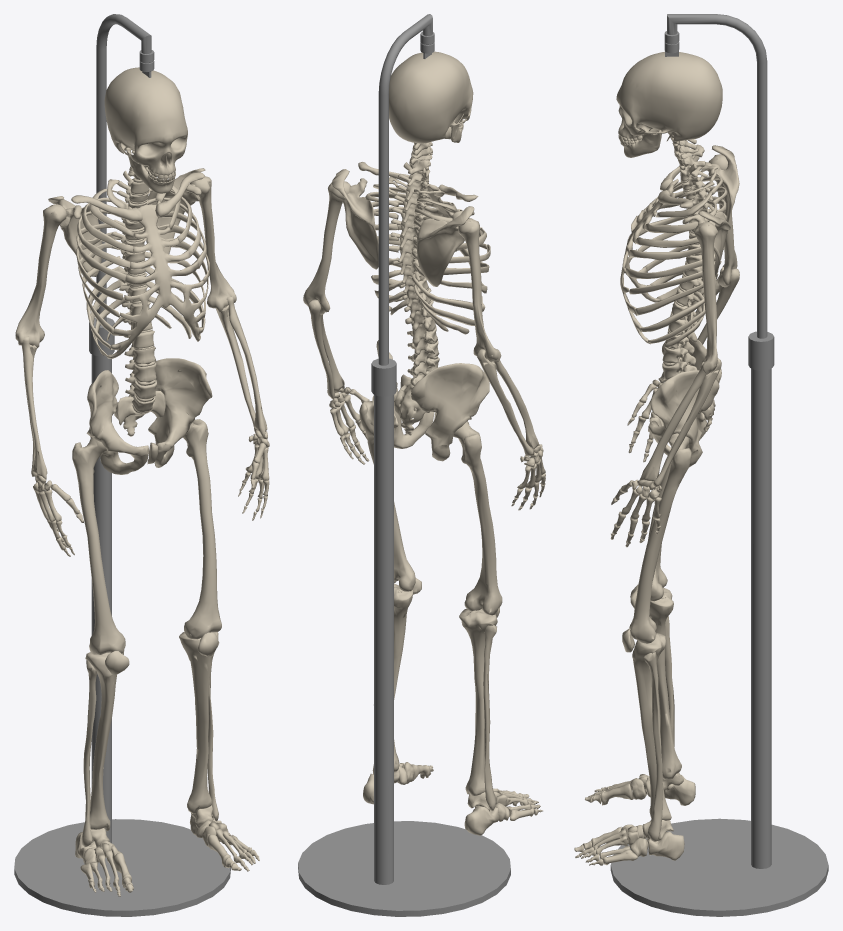
Rendered from SM_人体模型_002.fbx.
3 views of the same model, side by side, from view 1: azimuth 30°, elevation 25°; view 2: azimuth 150°, elevation 25°; view 3: azimuth 270°, elevation 25° (orthographic). The views are drawn at different scales.
Visible parts, largest first — view 1: SM_人体模型_002; view 2: SM_人体模型_002; view 3: SM_人体模型_002.
Part boxes in pixels (left/top/right/bottom): SM_人体模型_002: left=14, top=14, right=269, bottom=916; SM_人体模型_002: left=298, top=14, right=545, bottom=916; SM_人体模型_002: left=574, top=14, right=828, bottom=916.
Bounding box in the file's own units: 456 × 454 × 1689.
